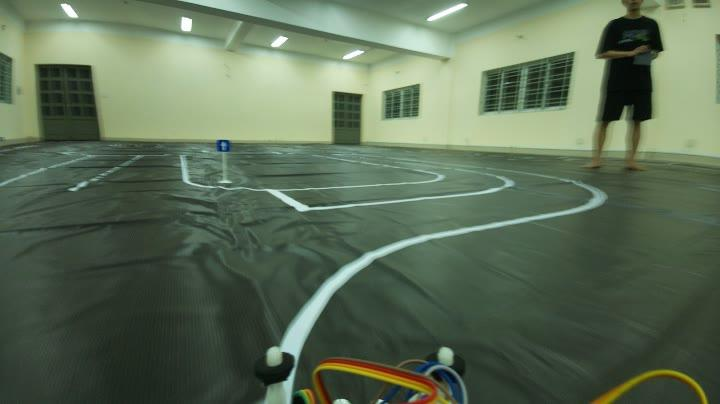onewayroad: (216, 137, 236, 159)
